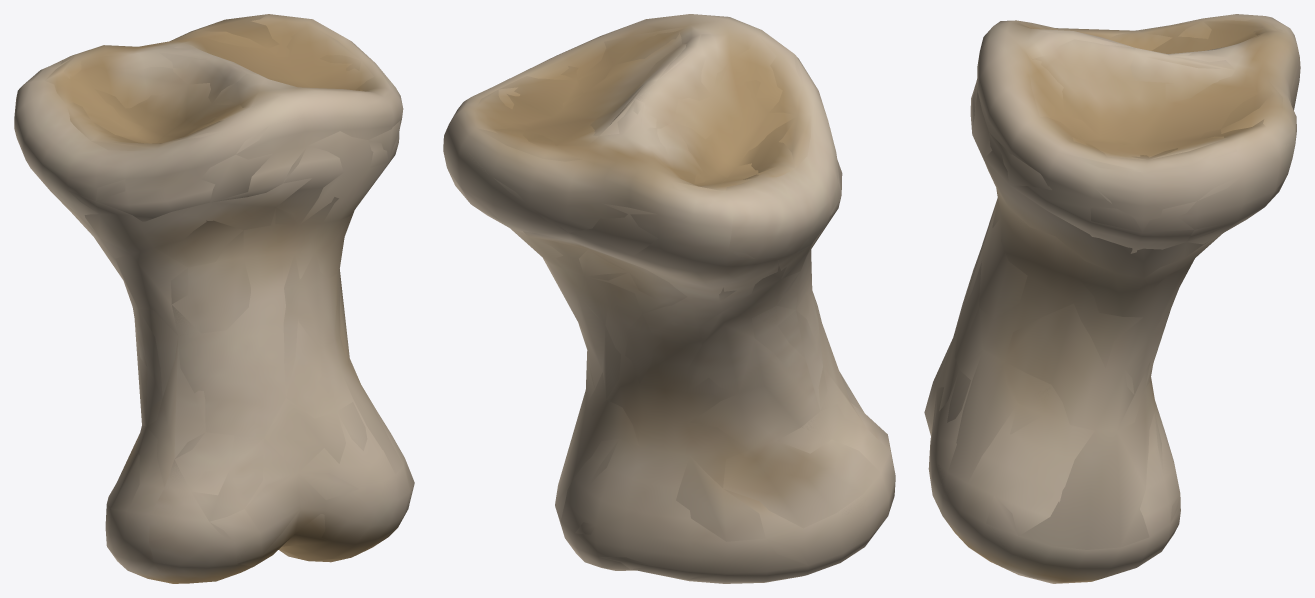
Rendered from BR 1st Phalanx.fbx.
3 views of the same model, side by side, from view 1: azimuth 30°, elevation 25°; view 2: azimuth 150°, elevation 25°; view 3: azimuth 270°, elevation 25° (orthographic). The views are drawn at different scales.
Visible parts, largest first — view 1: BR 1st Phalanx, BR 1st Phalanx low; view 2: BR 1st Phalanx, BR 1st Phalanx low; view 3: BR 1st Phalanx, BR 1st Phalanx low.
Boxes of the visible parts, x1,y1,x2,y2 form: BR 1st Phalanx: [14, 14, 414, 583]; BR 1st Phalanx low: [44, 14, 408, 571]; BR 1st Phalanx: [443, 14, 895, 583]; BR 1st Phalanx low: [455, 14, 895, 579]; BR 1st Phalanx: [928, 14, 1300, 583]; BR 1st Phalanx low: [924, 18, 1299, 564].
Bounding box in the file's own units: 7.86 × 11.16 × 7.4.
1 material, 1 textured.
